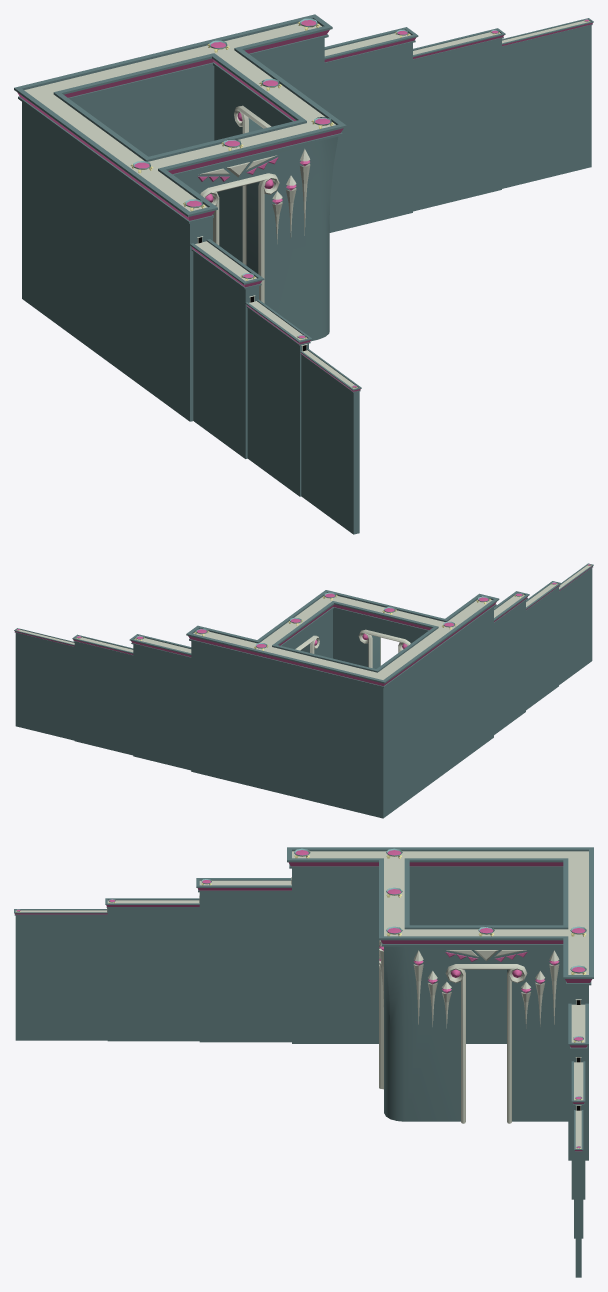
Rendered from TS_SpawnFort_4Part.fbx.
3 renders of one model, top to bottom at view 1: azimuth 30°, elevation 25°; view 2: azimuth 150°, elevation 25°; view 3: azimuth 270°, elevation 25°, orthographic. The views are drawn at different scales.
Visible parts, largest first — view 1: SpawnFort_Main, SpawnFort_Terrace1R, SpawnFort_Terrace2R, SpawnFort_Terrace3R, SpawnFort_Terrace1L, SpawnFort_Terrace2L, SpawnFort_Terrace3L; view 2: SpawnFort_Main, SpawnFort_Terrace1R, SpawnFort_Terrace2R, SpawnFort_Terrace3R, SpawnFort_Terrace1L, SpawnFort_Terrace2L, SpawnFort_Terrace3L; view 3: SpawnFort_Main, SpawnFort_Terrace1L, SpawnFort_Terrace2L, SpawnFort_Terrace3L, SpawnFort_Terrace1R, SpawnFort_Terrace3R, SpawnFort_Terrace2R.
Boxes of the visible parts, left/top/right/bottom form: SpawnFort_Main: left=14, top=14, right=346, bottom=421; SpawnFort_Terrace1R: left=324, top=27, right=418, bottom=232; SpawnFort_Terrace2R: left=413, top=28, right=505, bottom=211; SpawnFort_Terrace3R: left=502, top=18, right=593, bottom=188; SpawnFort_Terrace1L: left=190, top=236, right=264, bottom=458; SpawnFort_Terrace2L: left=245, top=295, right=312, bottom=496; SpawnFort_Terrace3L: left=300, top=344, right=361, bottom=534; SpawnFort_Main: left=186, top=590, right=499, bottom=818; SpawnFort_Terrace1R: left=129, top=634, right=191, bottom=770; SpawnFort_Terrace2R: left=72, top=634, right=133, bottom=755; SpawnFort_Terrace3R: left=14, top=628, right=74, bottom=740; SpawnFort_Terrace1L: left=494, top=591, right=529, bottom=734; SpawnFort_Terrace2L: left=526, top=581, right=561, bottom=710; SpawnFort_Terrace3L: left=559, top=563, right=593, bottom=684; SpawnFort_Main: left=287, top=847, right=593, bottom=1160; SpawnFort_Terrace1L: left=196, top=877, right=291, bottom=1042; SpawnFort_Terrace2L: left=105, top=896, right=199, bottom=1041; SpawnFort_Terrace3L: left=14, top=908, right=107, bottom=1040; SpawnFort_Terrace1R: left=568, top=999, right=588, bottom=1199; SpawnFort_Terrace3R: left=574, top=1105, right=583, bottom=1277; SpawnFort_Terrace2R: left=571, top=1057, right=585, bottom=1238.
Size of the model in its own units: 1115 by 398 by 1115.
